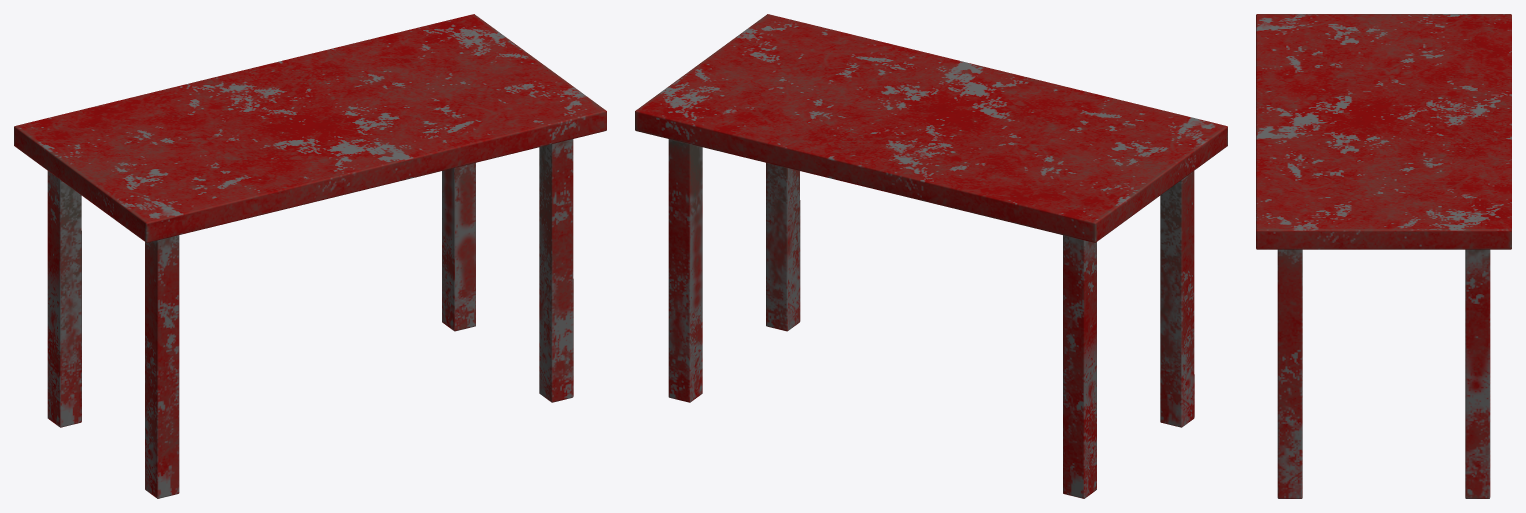
The model's file is Mesa.fbx.
The picture shows the model from 3 angles, left to right: view 1: azimuth 30°, elevation 25°; view 2: azimuth 150°, elevation 25°; view 3: azimuth 270°, elevation 25°; orthographic projection. The views are drawn at different scales.
Visible parts, largest first — view 1: Cube; view 2: Cube; view 3: Cube.
Part boxes in pixels (x1=…): Cube: x1=14, y1=14, x2=606, y2=498; Cube: x1=635, y1=14, x2=1227, y2=498; Cube: x1=1256, y1=14, x2=1511, y2=498.
Size of the model in its own units: 150 by 90.01 by 74.7.
1 material, 1 textured.
